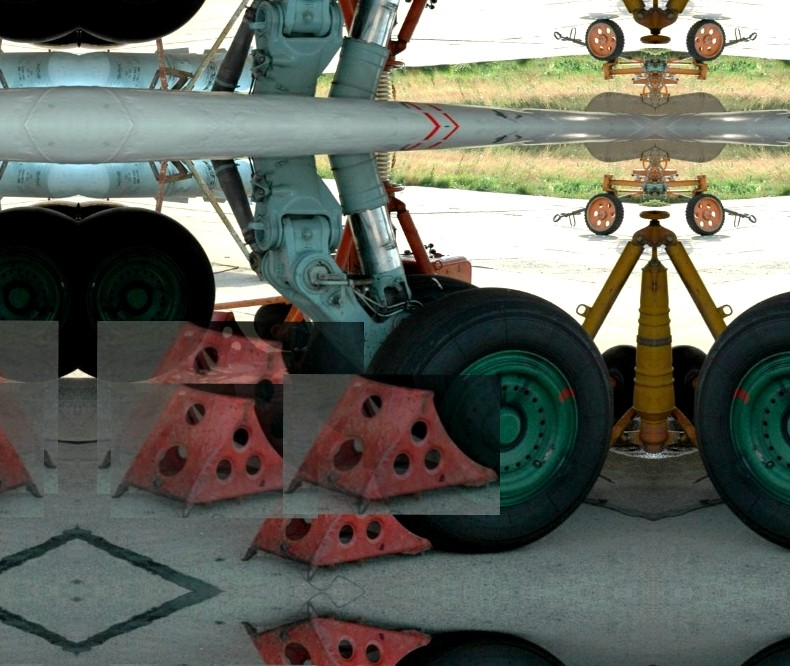chock: (97, 321, 364, 495), (283, 374, 500, 515), (110, 383, 318, 518), (240, 454, 434, 580), (239, 604, 433, 666)
wheel: (353, 286, 618, 553), (691, 287, 790, 555), (77, 202, 215, 384), (0, 202, 78, 384)
